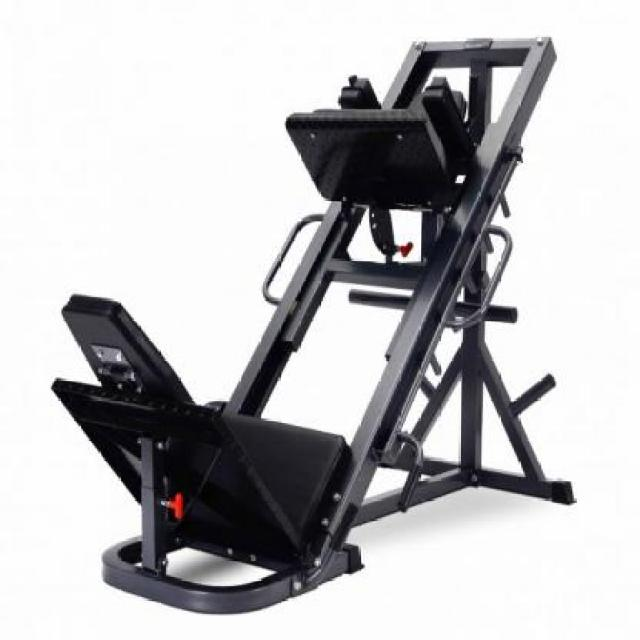leg press: (31, 16, 600, 624)
